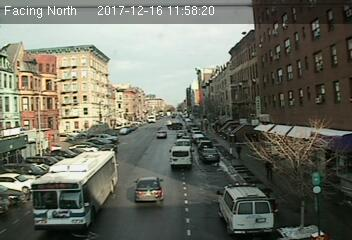bus: (26, 147, 119, 235)
car: (134, 176, 165, 202), (200, 148, 219, 162)
pedestrian: (264, 157, 274, 180)
police: (218, 179, 276, 230)
truck: (169, 145, 193, 168)
